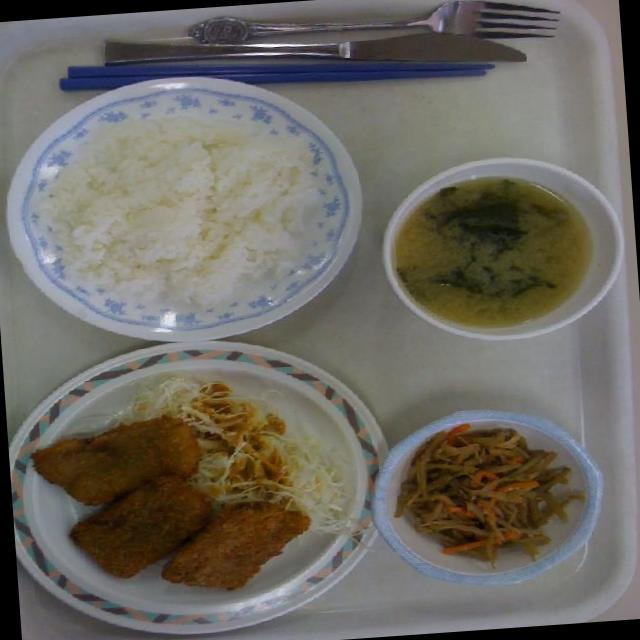Rice: (15, 89, 328, 336)
